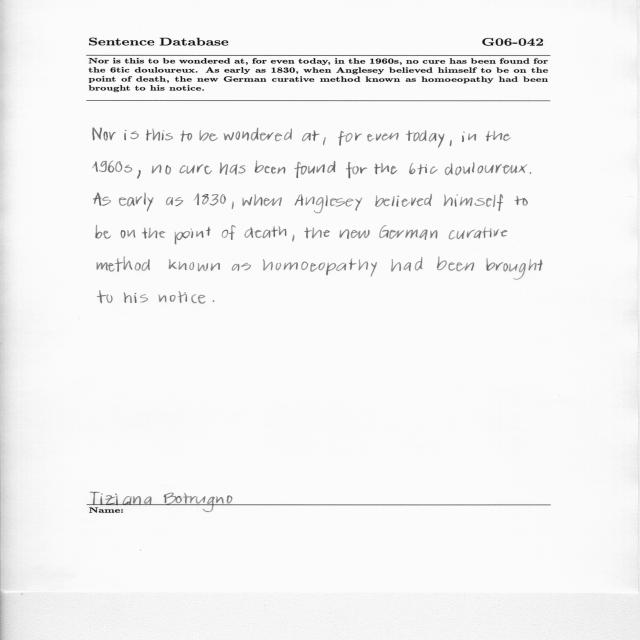word: (263, 258, 377, 277), (295, 194, 363, 213), (486, 258, 543, 280), (445, 162, 527, 175), (444, 194, 503, 211), (379, 225, 438, 240), (224, 128, 292, 141), (375, 193, 432, 207), (97, 257, 150, 272), (449, 227, 508, 240), (406, 130, 445, 148), (295, 161, 336, 178), (169, 259, 220, 272), (119, 193, 154, 211), (175, 227, 211, 244), (159, 291, 206, 304), (437, 257, 474, 271), (245, 226, 287, 238), (242, 194, 282, 206), (391, 257, 423, 272), (94, 161, 133, 172), (194, 193, 226, 206), (255, 161, 285, 174), (338, 131, 362, 146), (146, 128, 173, 141), (409, 163, 438, 175), (220, 162, 246, 175), (346, 162, 367, 178), (180, 165, 213, 175), (340, 229, 370, 239), (93, 128, 116, 141), (367, 133, 399, 142), (304, 228, 330, 239), (124, 292, 149, 303), (374, 163, 397, 174), (142, 228, 165, 239), (486, 131, 511, 141), (93, 193, 111, 206), (96, 225, 111, 239), (222, 225, 236, 240), (199, 130, 218, 141), (302, 131, 320, 142), (97, 291, 113, 303), (152, 165, 171, 175), (166, 197, 183, 206), (232, 263, 251, 271), (124, 130, 139, 140), (181, 130, 193, 142), (462, 132, 476, 142), (514, 196, 528, 206), (121, 230, 136, 238), (137, 170, 141, 179), (323, 137, 326, 145), (231, 202, 234, 210), (293, 235, 295, 242), (450, 140, 452, 146), (530, 172, 532, 174), (213, 300, 215, 302)
